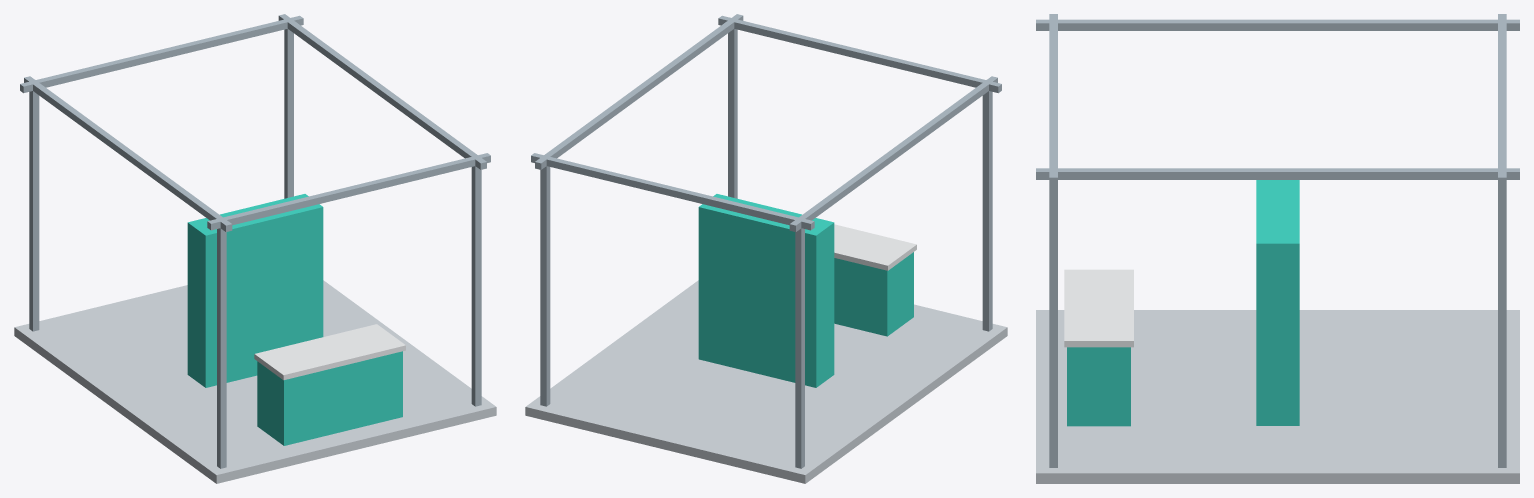
The picture shows the model from 3 angles, left to right: view 1: azimuth 30°, elevation 25°; view 2: azimuth 150°, elevation 25°; view 3: azimuth 270°, elevation 25°; orthographic projection. The views are drawn at different scales.
Visible parts, largest first — view 1: Exhibition Booth Concept; view 2: Exhibition Booth Concept; view 3: Exhibition Booth Concept.
Boxes of the visible parts, left/top/right/bottom form: Exhibition Booth Concept: left=14, top=14, right=496, bottom=483; Exhibition Booth Concept: left=525, top=14, right=1007, bottom=483; Exhibition Booth Concept: left=1036, top=14, right=1519, bottom=483.
Bounding box in the file's own units: 4 × 3.49 × 5.
